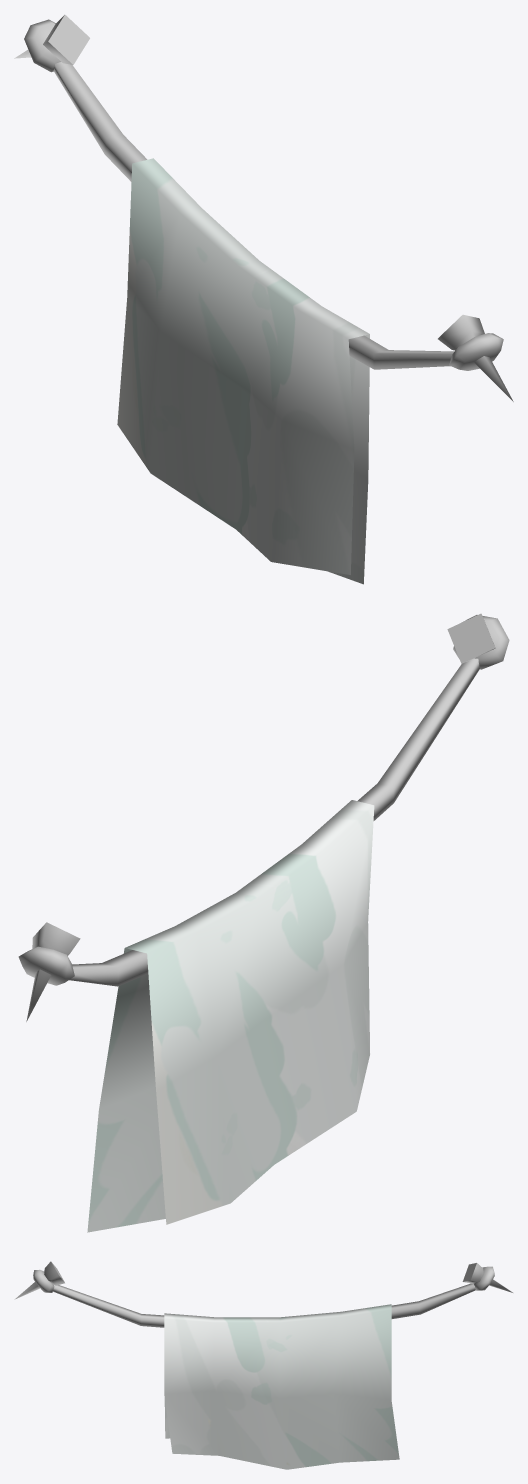
File: SM_PROP_clothesline_01.fbx
The picture shows the model from 3 angles, top to bottom: view 1: azimuth 30°, elevation 25°; view 2: azimuth 150°, elevation 25°; view 3: azimuth 270°, elevation 25°; orthographic projection. The views are drawn at different scales.
Visible parts, largest first — view 1: SM_PROP_clothesline_01; view 2: SM_PROP_clothesline_01; view 3: SM_PROP_clothesline_01.
Boxes of the visible parts, x1=… form: SM_PROP_clothesline_01: x1=14, y1=15, x2=513, y2=584; SM_PROP_clothesline_01: x1=18, y1=613, x2=509, y2=1232; SM_PROP_clothesline_01: x1=14, y1=1261, x2=512, y2=1469.
Size of the model in its own units: 27.97 by 129 by 290.
